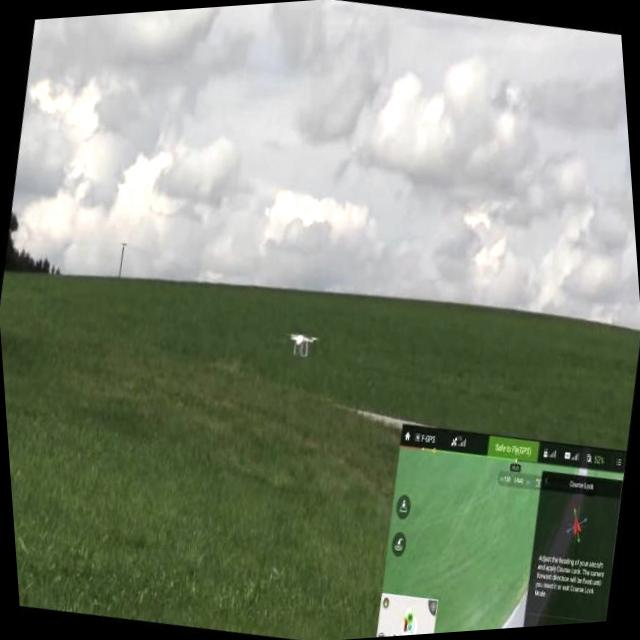drone: (278, 312, 324, 365)
